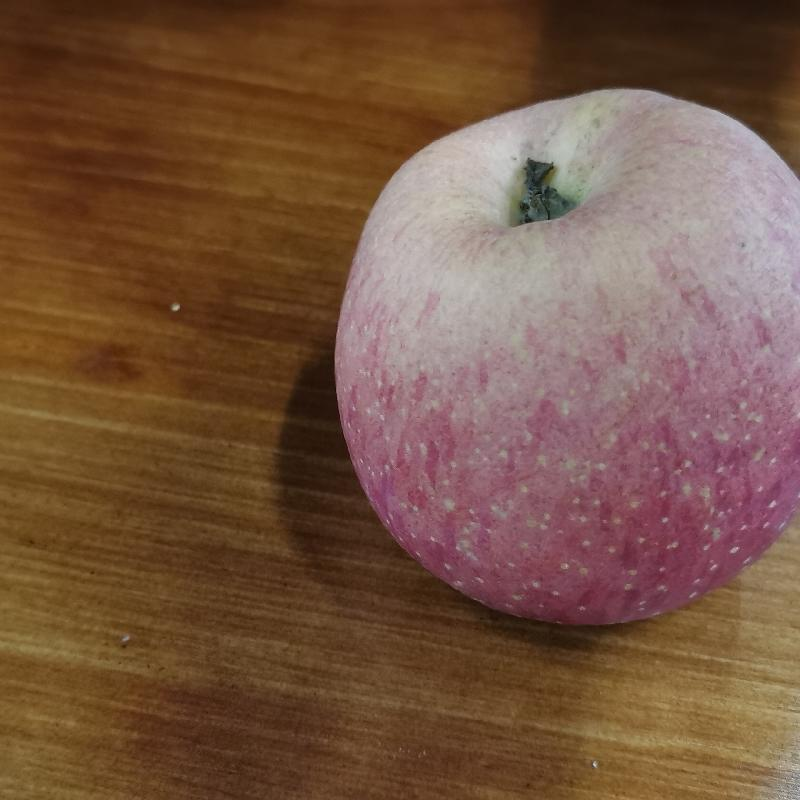apples: (329, 81, 800, 628)
